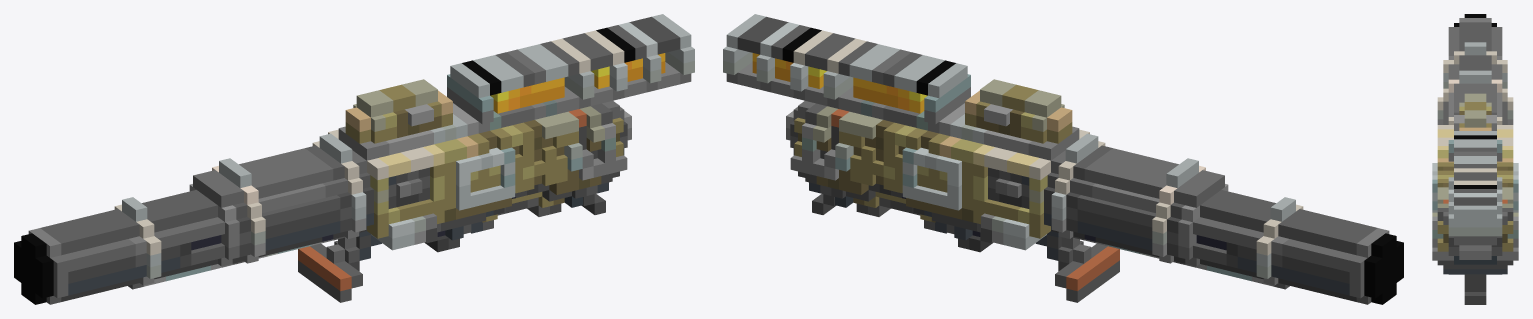
The model's file is Cannon_4BQ_Grynn.obj.
3 views of the same model, side by side, from view 1: azimuth 30°, elevation 25°; view 2: azimuth 150°, elevation 25°; view 3: azimuth 270°, elevation 25° (orthographic). The views are drawn at different scales.
Bounding box in the file's own units: 58 × 15 × 8.8.
